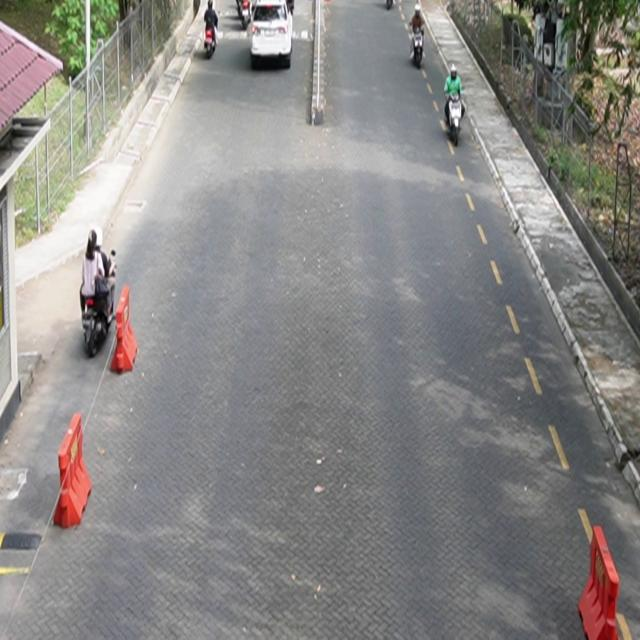car: (247, 1, 294, 70)
